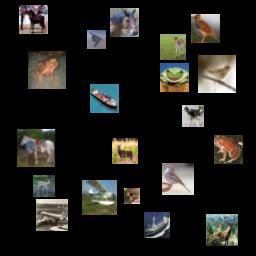airplane: (82, 180, 117, 215), (36, 199, 68, 231), (87, 30, 106, 49)
bird: (198, 55, 236, 93), (162, 163, 194, 195), (191, 14, 220, 43)
deer: (206, 214, 238, 246), (112, 138, 138, 164), (160, 34, 186, 60), (33, 175, 55, 197), (124, 188, 140, 204)
dog: (182, 105, 204, 127)
frog: (28, 51, 66, 89), (160, 63, 189, 92), (214, 135, 243, 164)
ship: (90, 84, 119, 113), (144, 212, 170, 238)
